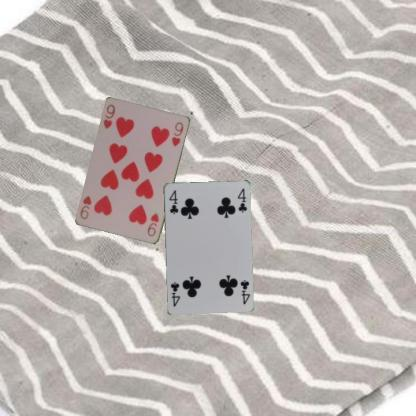4c: (237, 277, 251, 306), (167, 187, 179, 216)
9h: (101, 102, 117, 131), (145, 210, 160, 238)
